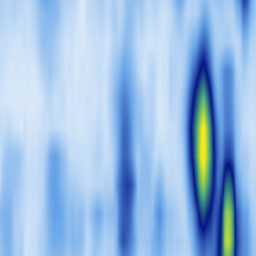defect: (189, 42, 215, 240), (217, 135, 242, 256), (119, 126, 134, 255)
